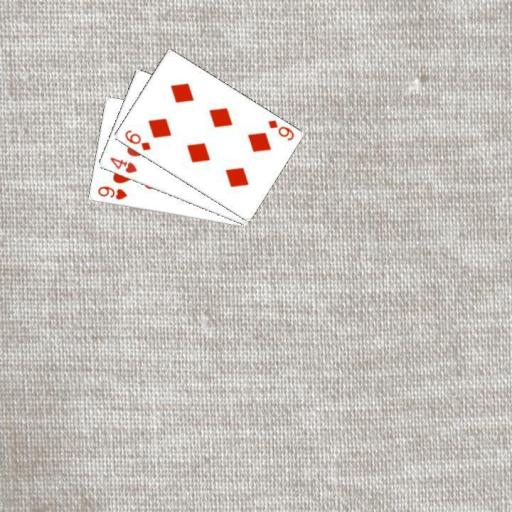card-corner: (121, 127, 152, 152), (265, 117, 295, 142), (107, 154, 138, 175), (95, 184, 128, 202)
